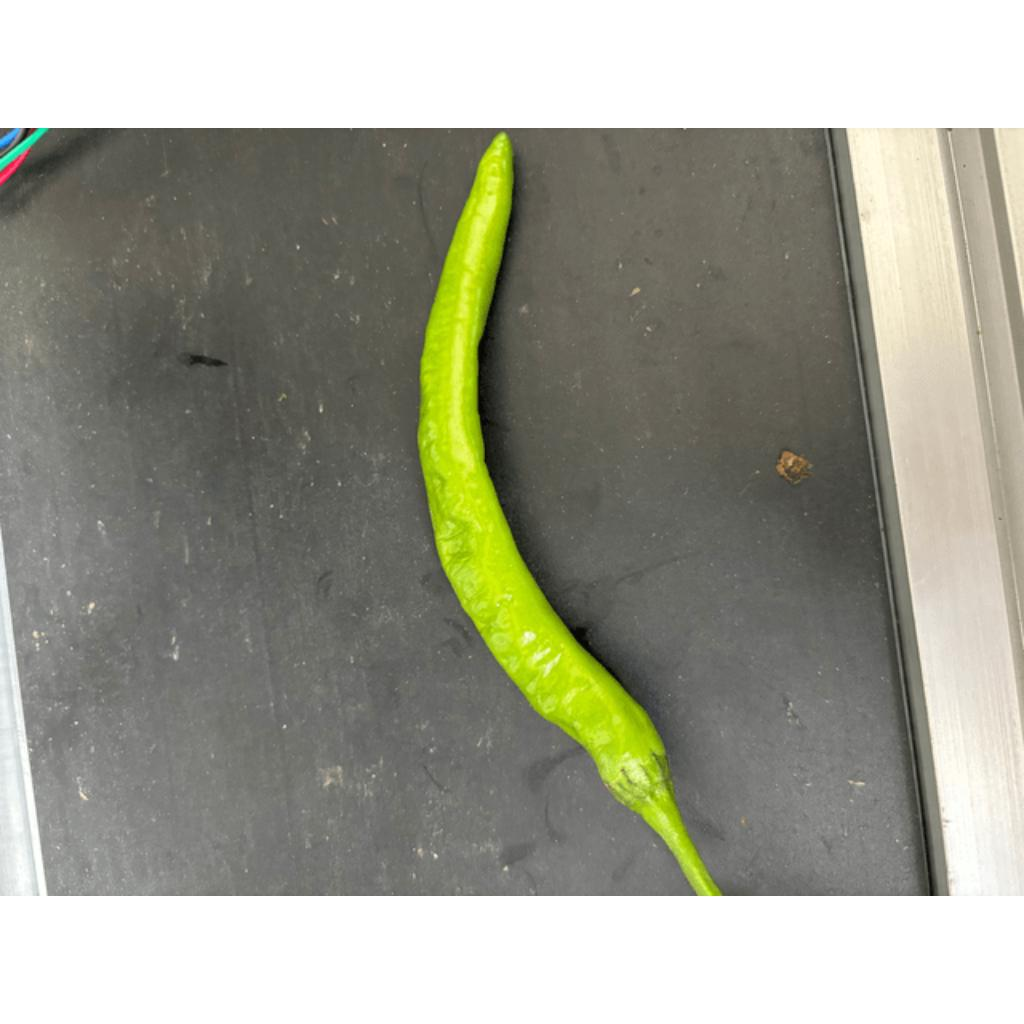chili: (413, 128, 674, 816)
